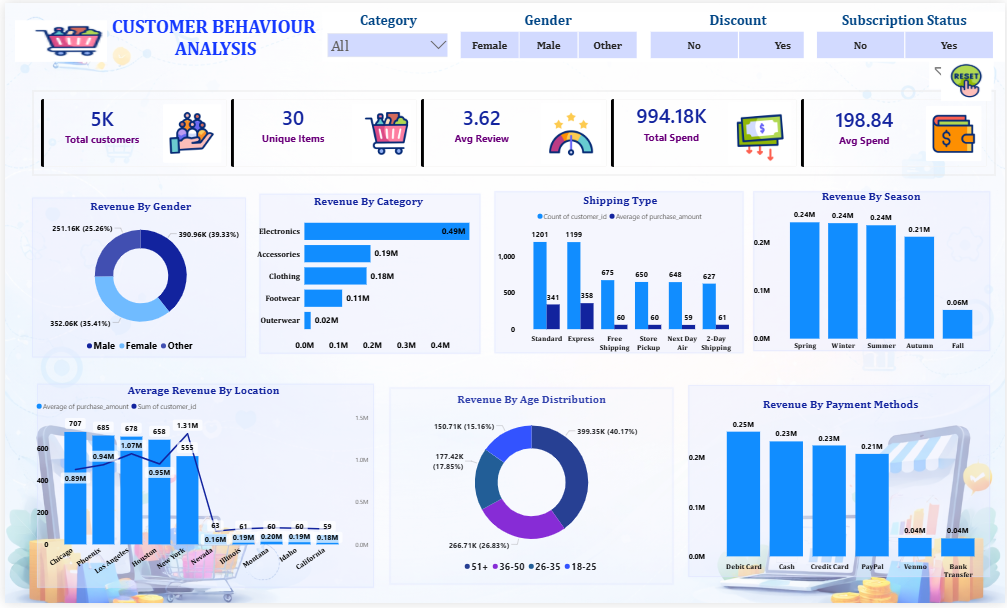

The dashboard page shown, as its layout file describes it:
{"tool":"powerbi","page":{"name":"Customer_Analysis_Revenue","canvas":[2000,1200],"ordinal":0},"visuals":[{"type":"cardVisual","fields":{"Data":["data_analysis_project customer_behaviour_analysis.Total customers","data_analysis_project customer_behaviour_analysis.Unique Items","data_analysis_project customer_behaviour_analysis.Avg Review","data_analysis_project customer_behaviour_analysis.Total Spend","data_analysis_project customer_behaviour_analysis.Avg Spend"]},"box":[54,174,1926,170],"z":0},{"type":"shape","box":[974,372,506,332],"z":0,"group":"g2"},{"type":"shape","box":[1492,372,482,327.8],"z":0,"group":"g3"},{"type":"shape","box":[504.1,378,449.9,328],"z":0,"group":"g1"},{"type":"shape","box":[50,384,436,328],"z":0,"group":"g6"},{"type":"donutChart","title":"Revenue By Age Distribution","fields":{"Category":["data_analysis_project customer_behaviour_analysis.age (groups)"],"Y":["Sum(data_analysis_project customer_behaviour_analysis.purchase_amount)"]},"box":[795.5,777.6,516.8,370.6],"z":0,"group":"g5"},{"type":"clusteredColumnChart","title":"Revenue By Season","fields":{"Category":["data_analysis_project customer_behaviour_analysis.season"],"Y":["Sum(data_analysis_project customer_behaviour_analysis.purchase_amount)"]},"box":[1492,372,479.9,330],"z":1000,"group":"g3"},{"type":"group","id":"g1","title":"Group 2","box":[500,378,454,330],"z":1000},{"type":"clusteredBarChart","title":"Revenue By Category","fields":{"Y":["Sum(data_analysis_project customer_behaviour_analysis.purchase_amount)"],"Category":["data_analysis_project customer_behaviour_analysis.category"]},"box":[500,384,454,324],"z":1500,"group":"g1"},{"type":"group","id":"g2","title":"Group 3","box":[974,372,506,332],"z":2000},{"type":"donutChart","title":"Revenue By Gender","fields":{"Category":["data_analysis_project customer_behaviour_analysis.gender"],"Y":["Sum(data_analysis_project customer_behaviour_analysis.purchase_amount)"]},"box":[64.5,390.7,413.3,314.6],"z":2000,"group":"g6"},{"type":"shape","box":[61.6,758.3,682,416],"z":2500,"group":"g7"},{"type":"shape","box":[1362,760,611.7,392.1],"z":2500,"group":"g4"},{"type":"group","id":"g3","title":"Group 4","box":[1492,372,482,330],"z":3000},{"type":"group","id":"g4","title":"Group 6","box":[1362,760,618,400],"z":4000},{"type":"shape","box":[765,765,576,402],"z":4000,"group":"g5"},{"type":"clusteredColumnChart","title":"Shipping Type","fields":{"Category":["data_analysis_project customer_behaviour_analysis.shipping_type"],"Y":["CountNonNull(data_analysis_project customer_behaviour_analysis.customer_id)","Avg(data_analysis_project customer_behaviour_analysis.purchase_amount)"]},"box":[978.2,378.7,501.8,325.3],"z":4002,"group":"g2"},{"type":"group","id":"g5","title":"Group 5","box":[765,765,575,401.7],"z":5000},{"type":"clusteredColumnChart","title":"Revenue By Payment Methods","fields":{"Category":["data_analysis_project customer_behaviour_analysis.payment_method"],"Y":["Sum(data_analysis_project customer_behaviour_analysis.purchase_amount)"]},"box":[1362,787.6,618,372.4],"z":5002,"group":"g4"},{"type":"lineStackedColumnComboChart","title":"Average Revenue By Location","fields":{"Category":["data_analysis_project customer_behaviour_analysis.location"],"Y":["Avg(data_analysis_project customer_behaviour_analysis.purchase_amount)"],"Y2":["Sum(data_analysis_project customer_behaviour_analysis.customer_id)"]},"box":[58.3,760,680,401.7],"z":5006,"group":"g7"},{"type":"group","id":"g6","title":"Group 1","box":[50,384,436,328],"z":6000},{"type":"group","id":"g7","title":"Group 7","box":[58.3,758.3,685,415],"z":7000},{"type":"textbox","box":[204,20,424,98],"z":8000},{"type":"actionButton","box":[20,36,184,82],"z":9000},{"type":"slicer","title":"Category","fields":{"Values":["data_analysis_project customer_behaviour_analysis.category"]},"box":[634,18,264,100],"z":10000},{"type":"slicer","title":"Gender","fields":{"Values":["data_analysis_project customer_behaviour_analysis.gender"]},"box":[884,18,402,100],"z":11000},{"type":"slicer","title":"Discount","fields":{"Values":["data_analysis_project customer_behaviour_analysis.discount_applied"]},"box":[1266,18,402,100],"z":12000},{"type":"slicer","title":"Subscription Status","fields":{"Values":["data_analysis_project customer_behaviour_analysis.subscription_status"]},"box":[1598,18,402,100],"z":13000},{"type":"actionButton","box":[1872,118,100,78],"z":13001}]}

Visuals, with their boxes in screenshot pixels (x1, y1, x2, y2), scaled from the page's 2000x1200 canvas onto the 1007x608 screenshot:
cardVisual - data_analysis_project customer_behaviour_analysis.Total customers x data_analysis_project customer_behaviour_analysis.Unique Items: rect(27, 88, 997, 174)
shape: rect(490, 188, 745, 357)
shape: rect(751, 188, 994, 355)
shape: rect(254, 192, 480, 358)
shape: rect(25, 195, 245, 361)
"Revenue By Age Distribution" donutChart: rect(401, 394, 661, 582)
"Revenue By Season" clusteredColumnChart: rect(751, 188, 993, 356)
"Group 2" group: rect(252, 192, 480, 359)
"Revenue By Category" clusteredBarChart: rect(252, 195, 480, 359)
"Group 3" group: rect(490, 188, 745, 357)
"Revenue By Gender" donutChart: rect(32, 198, 241, 357)
shape: rect(31, 384, 374, 595)
shape: rect(686, 385, 994, 584)
"Group 4" group: rect(751, 188, 994, 356)
"Group 6" group: rect(686, 385, 997, 588)
shape: rect(385, 388, 675, 591)
"Shipping Type" clusteredColumnChart: rect(493, 192, 745, 357)
"Group 5" group: rect(385, 388, 675, 591)
"Revenue By Payment Methods" clusteredColumnChart: rect(686, 399, 997, 588)
"Average Revenue By Location" lineStackedColumnComboChart: rect(29, 385, 372, 589)
"Group 1" group: rect(25, 195, 245, 361)
"Group 7" group: rect(29, 384, 374, 594)
textbox: rect(103, 10, 316, 60)
actionButton: rect(10, 18, 103, 60)
"Category" slicer: rect(319, 9, 452, 60)
"Gender" slicer: rect(445, 9, 648, 60)
"Discount" slicer: rect(637, 9, 840, 60)
"Subscription Status" slicer: rect(805, 9, 1006, 60)
actionButton: rect(943, 60, 993, 99)
